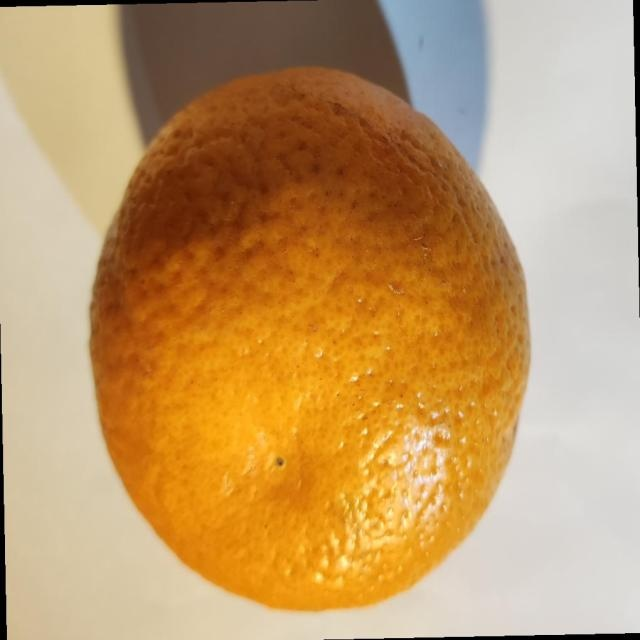agrume: (87, 64, 532, 612)
